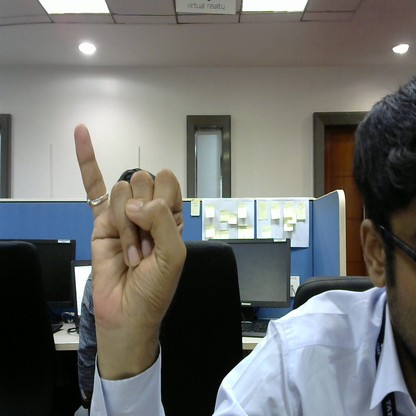i: (65, 117, 192, 332)
